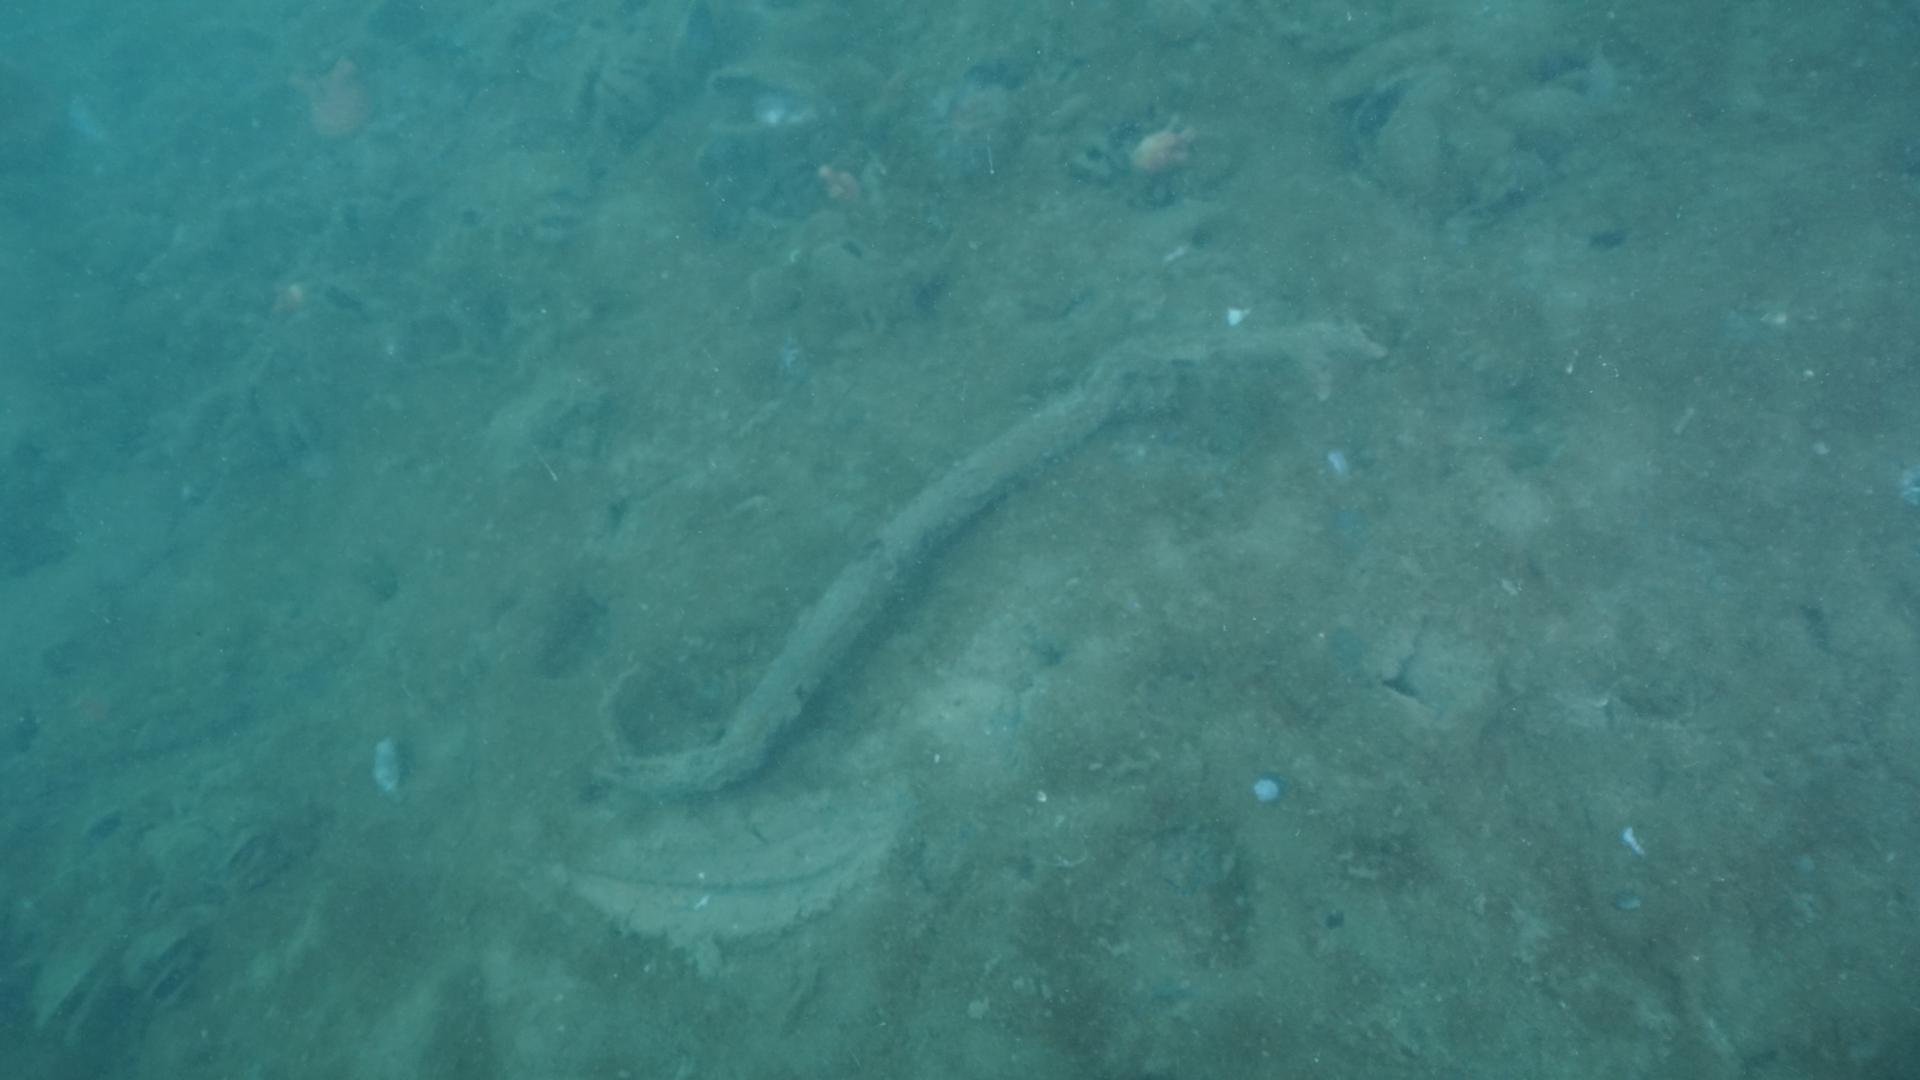wood: (593, 316, 1390, 794)
